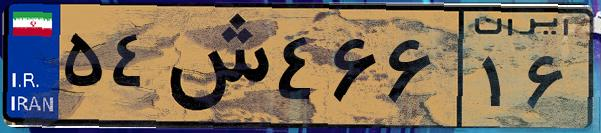1: (475, 38, 525, 113)
4: (270, 28, 330, 110), (110, 28, 158, 98)
5: (57, 26, 110, 100)
6: (385, 28, 445, 110), (330, 28, 385, 110), (525, 38, 570, 115)
ش: (158, 12, 270, 120)
